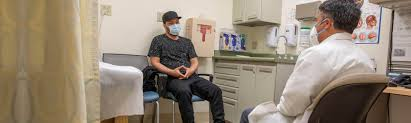Good: (150, 1, 376, 123)
